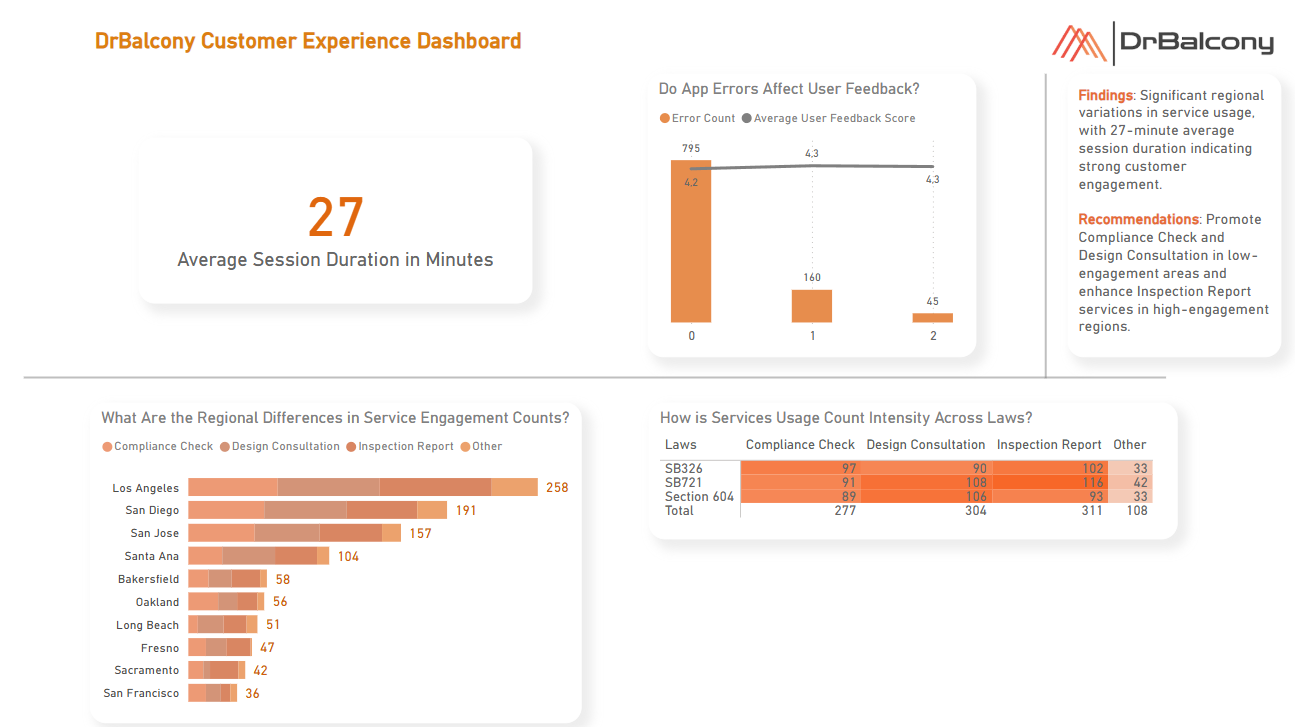

This screenshot's page, from the dashboard's own definition file:
{"tool":"powerbi","page":{"name":"Page 1","canvas":[1280,720],"ordinal":0},"visuals":[{"type":"barChart","title":"What Are the Regional Differences in Service Engagement Counts?","fields":{"Category":["DrBalcony.user_location"],"Y":["CountNonNull(DrBalcony.features_used)"],"Series":["DrBalcony.features_used"]},"box":[88.7,397.9,485.6,316.5],"z":0},{"type":"image","box":[1017.8,0,262.2,85.6],"z":1000},{"type":"lineClusteredColumnComboChart","title":"Do App Errors Affect User Feedback?","fields":{"Y2":["Avg(DrBalcony.user_feedback_score)"],"Category":["DrBalcony.error_occurrences"],"Y":["CountNonNull(DrBalcony.error_occurrences)"]},"box":[640,72.2,324.4,280],"z":2000},{"type":"pivotTable","title":"How is Services Usage Count Intensity Across Laws?","fields":{"Rows":["DrBalcony.regulatory_focus"],"Columns":["DrBalcony.features_used"],"Values":["CountNonNull(DrBalcony.features_used)"]},"box":[640.2,397.9,522.7,135.1],"z":3000},{"type":"card","fields":{"Values":["Avg(DrBalcony.session_duration_in_minutes)"]},"box":[137.1,136.1,388.7,163.9],"z":4000},{"type":"textbox","box":[89,22,437,42],"z":5000},{"type":"shape","box":[23.7,357.7,1139.2,29.9],"z":6000},{"type":"textbox","box":[1054.4,72.2,211.1,280],"z":7000},{"type":"shape","box":[1017.8,72.2,31.1,301.1],"z":8000}]}

Visuals, with their boxes in screenshot pixels (x1, y1, x2, y2), scaled from the page's 1280x720 canvas onto the 1295x727 screenshot:
"What Are the Regional Differences in Service Engagement Counts?" barChart: l=90, t=402, r=581, b=721
image: l=1030, t=0, r=1294, b=86
"Do App Errors Affect User Feedback?" lineClusteredColumnComboChart: l=648, t=73, r=976, b=356
"How is Services Usage Count Intensity Across Laws?" pivotTable: l=648, t=402, r=1177, b=538
card - Avg(DrBalcony.session_duration_in_minutes): l=139, t=137, r=532, b=303
textbox: l=90, t=22, r=532, b=65
shape: l=24, t=361, r=1177, b=391
textbox: l=1067, t=73, r=1280, b=356
shape: l=1030, t=73, r=1061, b=377
